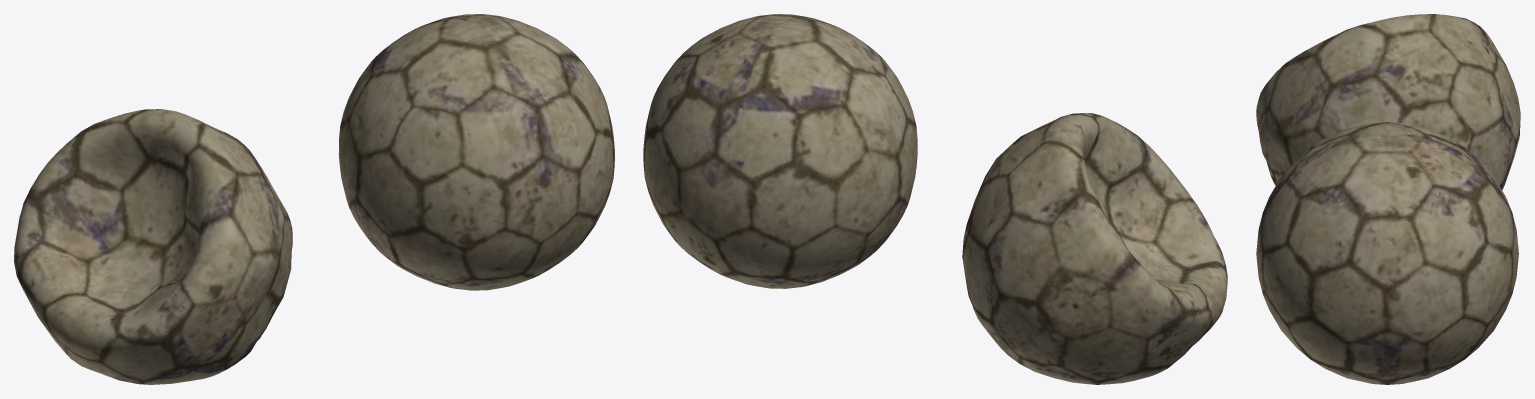
Rendered from football.glb.
3 renders of one model, left to right at view 1: azimuth 30°, elevation 25°; view 2: azimuth 150°, elevation 25°; view 3: azimuth 270°, elevation 25°, orthographic. The views are drawn at different scales.
Visible parts, largest first — view 1: football_deflated; view 2: football_deflated; view 3: football_deflated.
Part boxes in pixels (<box>): football_deflated: <box>14,14,614,384</box>; football_deflated: <box>643,14,1227,384</box>; football_deflated: <box>1256,14,1520,384</box>.
Bounding box in the file's own units: 0.5089 × 0.2219 × 0.2222.
1 material, 1 textured.
